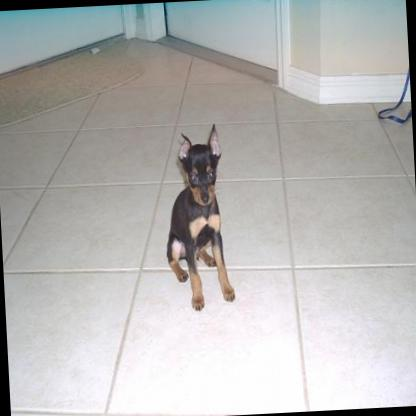miniature_pinscher: (159, 122, 236, 312)
